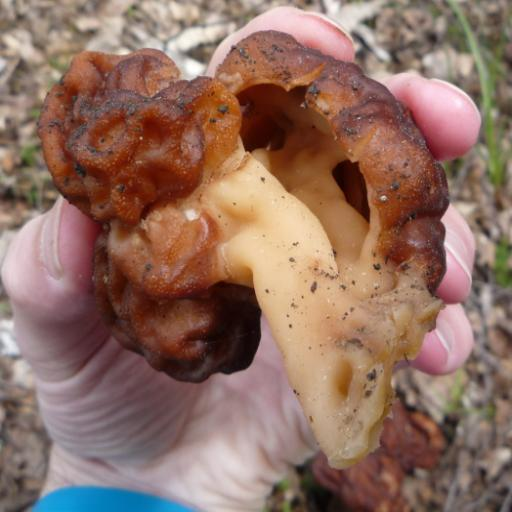mushroom: (42, 30, 448, 471)
